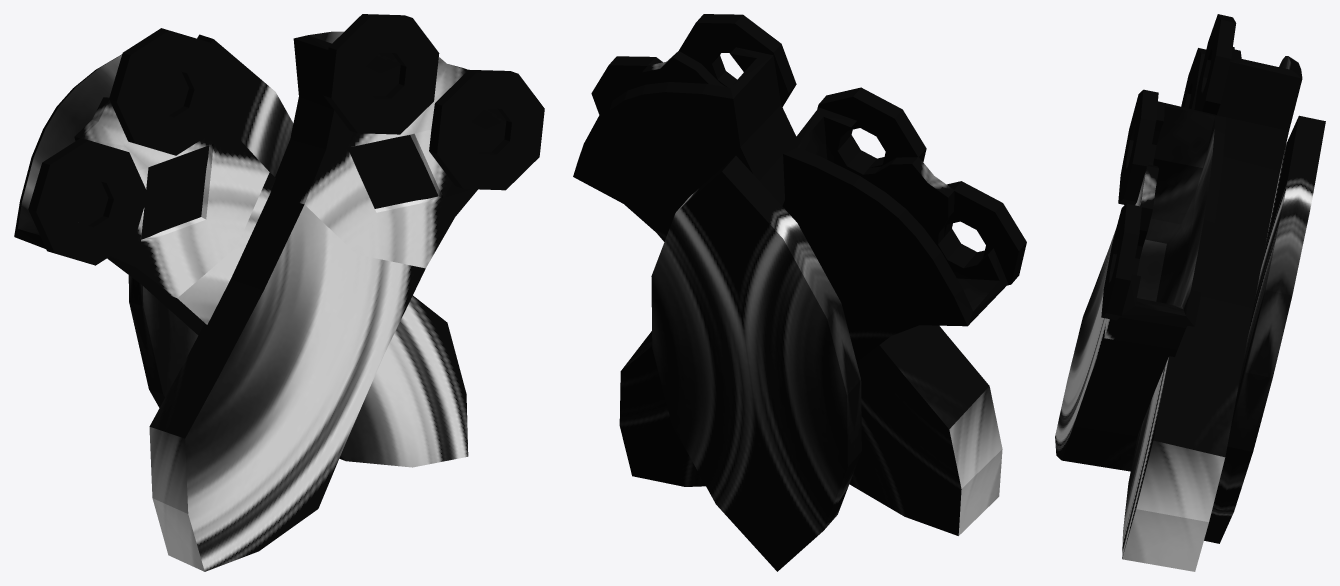
The model's file is 0342_jianqiao.glb.
3 renders of one model, left to right at view 1: azimuth 30°, elevation 25°; view 2: azimuth 150°, elevation 25°; view 3: azimuth 270°, elevation 25°, orthographic. The views are drawn at different scales.
Bounding box in the file's own units: 2.1 × 2.2 × 1.1.
1 material, 1 textured.
